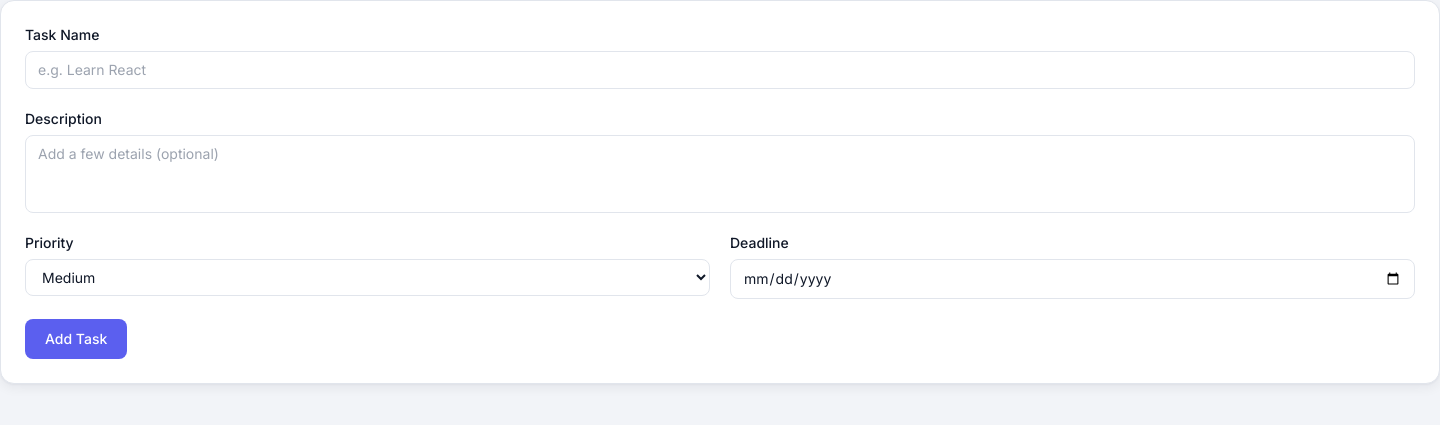
Test: TaskForm › shows an error when task name is empty
The image size is (1440, 425).
Click the button "Add Task".
click(76, 339)  # box 25,319 -> 127,359
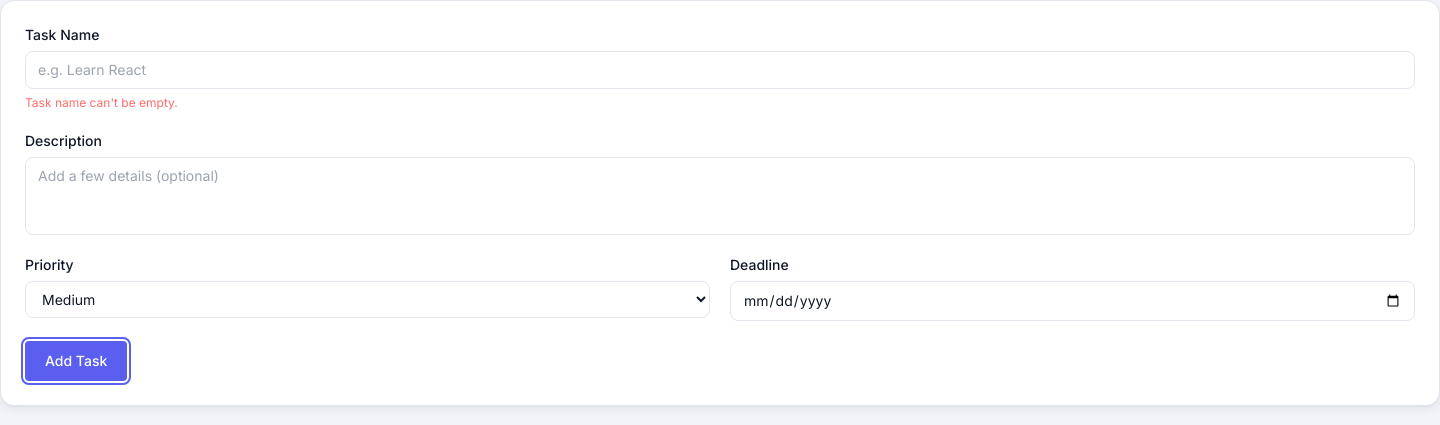
Check: the text "Task name can't be empty." is shown, box 25,95 -> 178,110
